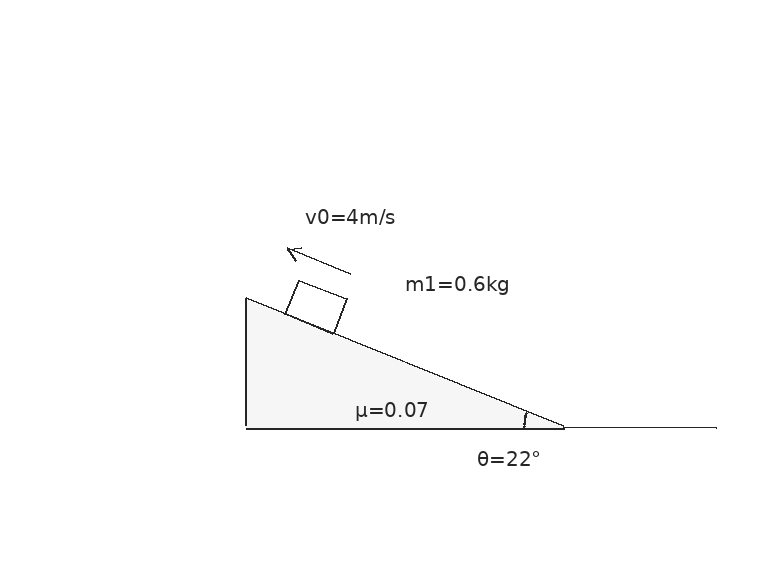block: (283, 278, 348, 335)
ramp: (243, 296, 566, 429)
